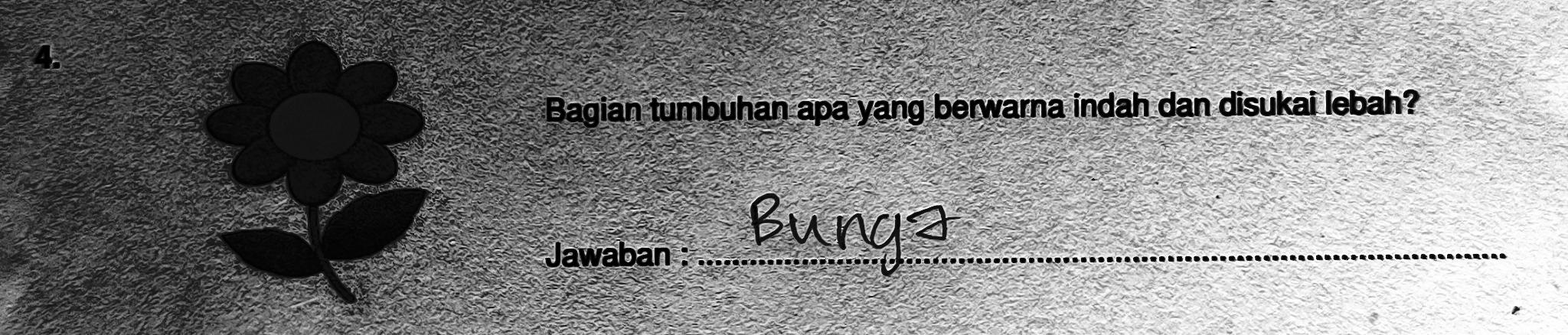jawaban: (745, 188, 964, 270)
